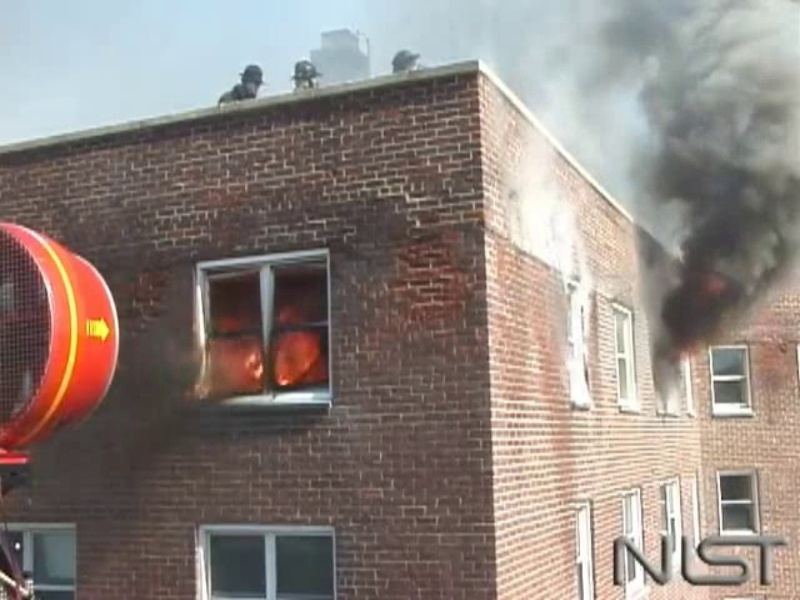smoke: (621, 1, 793, 288)
